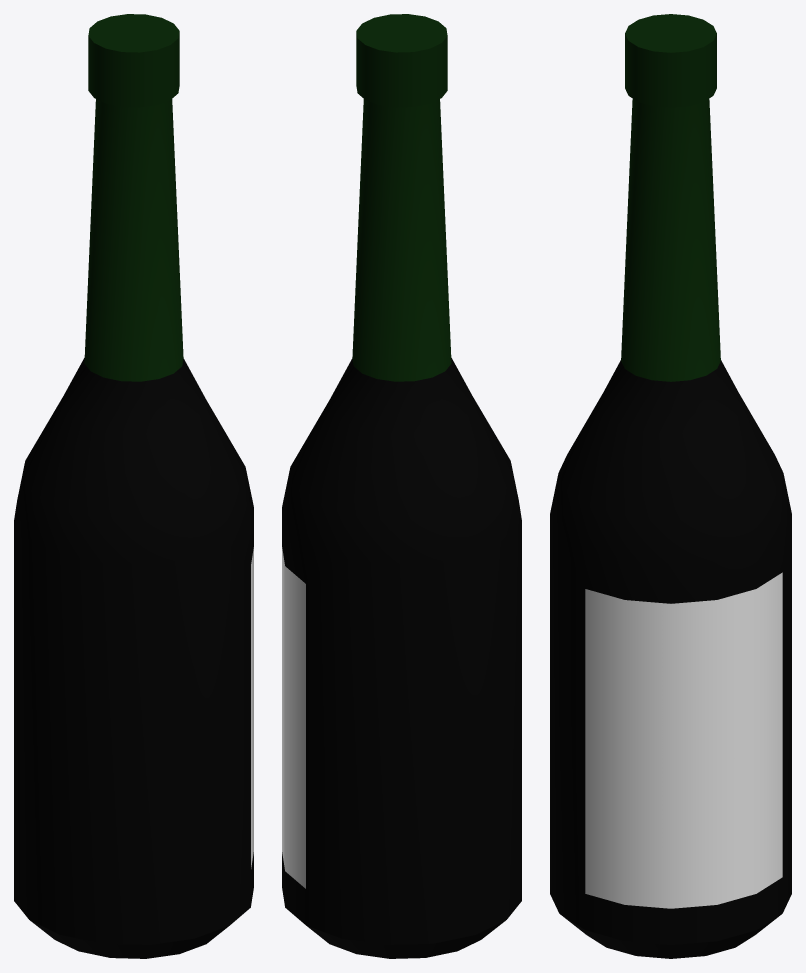
Rendered from wineBottle.fbx.
3 views of the same model, side by side, from view 1: azimuth 30°, elevation 25°; view 2: azimuth 150°, elevation 25°; view 3: azimuth 270°, elevation 25° (orthographic).
Parts seen in each view (by area): view 1: wine; view 2: wine; view 3: wine.
Part boxes in pixels (left/top/right/bottom): wine: left=14, top=14, right=253, bottom=958; wine: left=282, top=14, right=521, bottom=958; wine: left=550, top=14, right=791, bottom=958.
Size of the model in its own units: 14.69 by 59.43 by 14.69.
